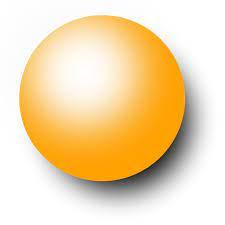oball: (15, 12, 191, 186)
